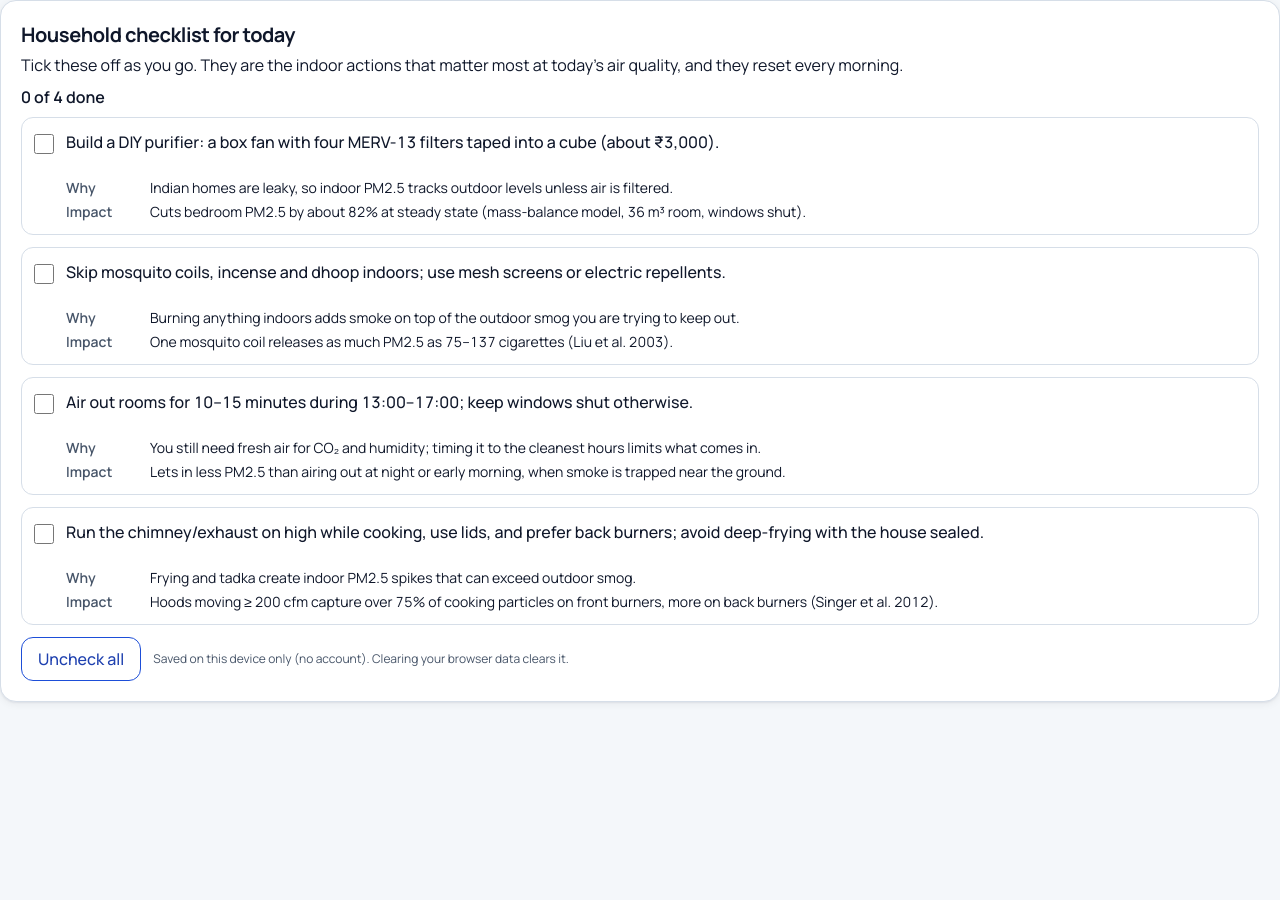
Scenario: Checklist › unchecks all
Click the 1st checkbox at (44, 144), box [34,134,54,154]
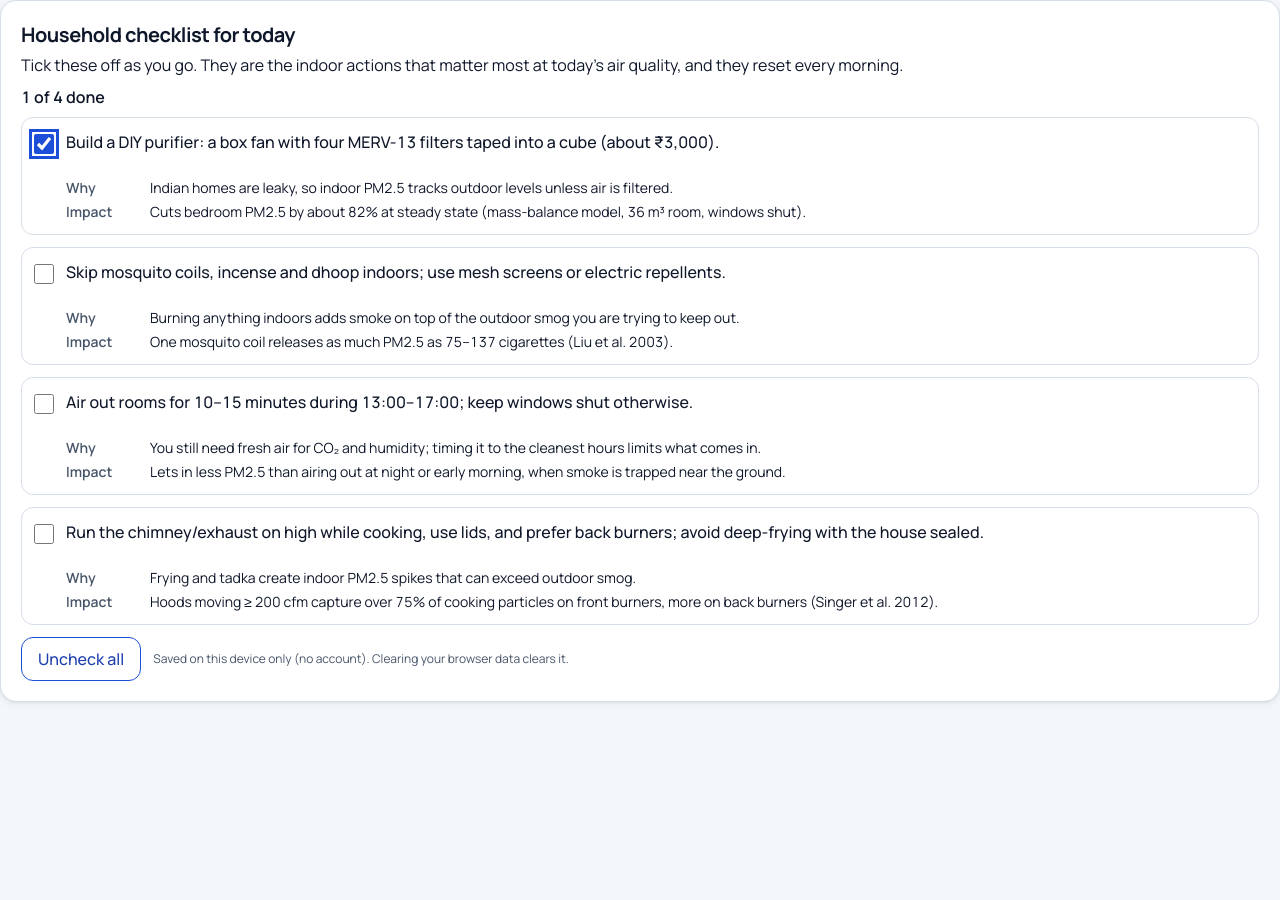
Click the 2nd checkbox at (44, 274), box [34,264,54,284]
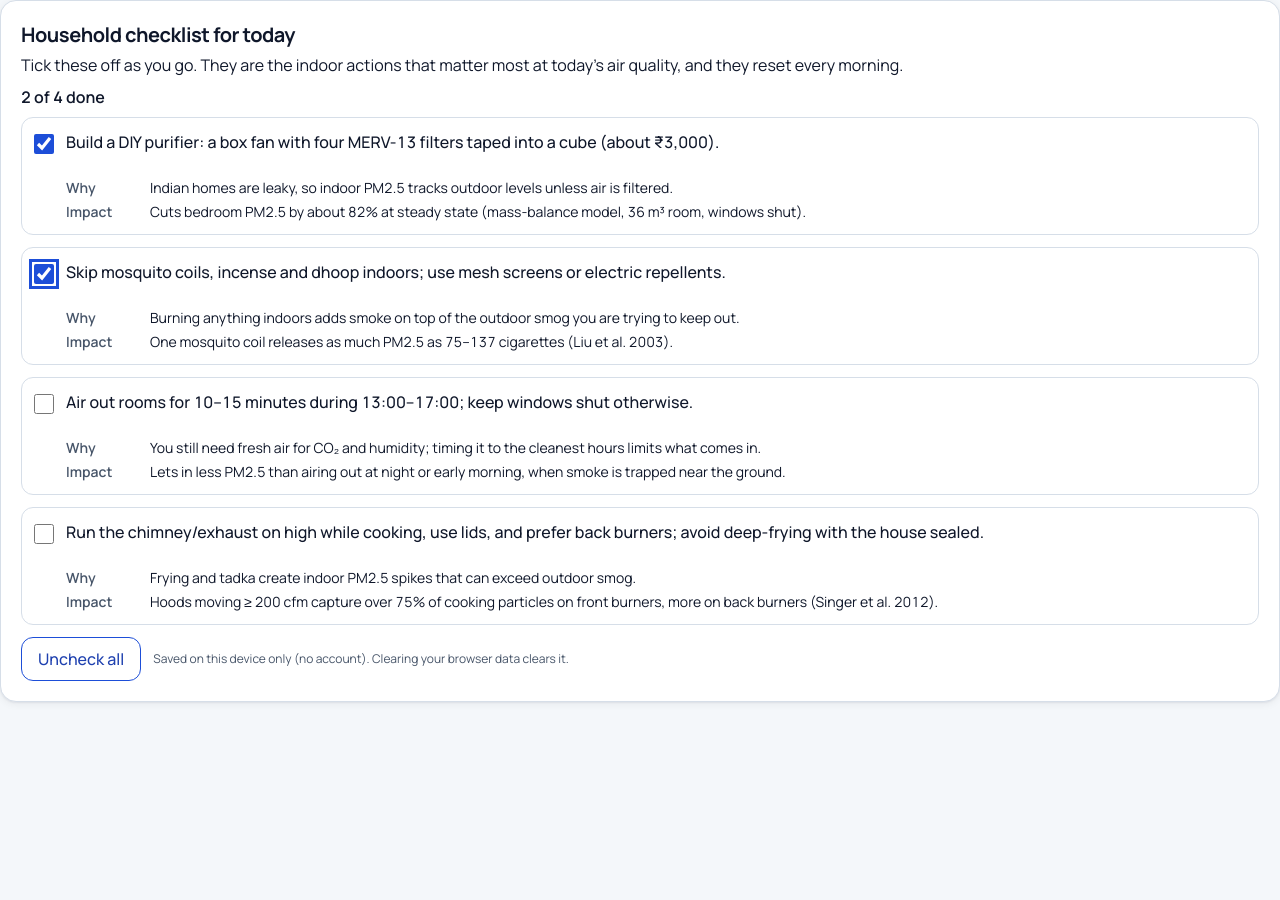
Expected: the text "2 of 4 done" is shown, [21,86,105,108]
Click the button "Uncheck all" at (81, 659), box [21,637,141,681]
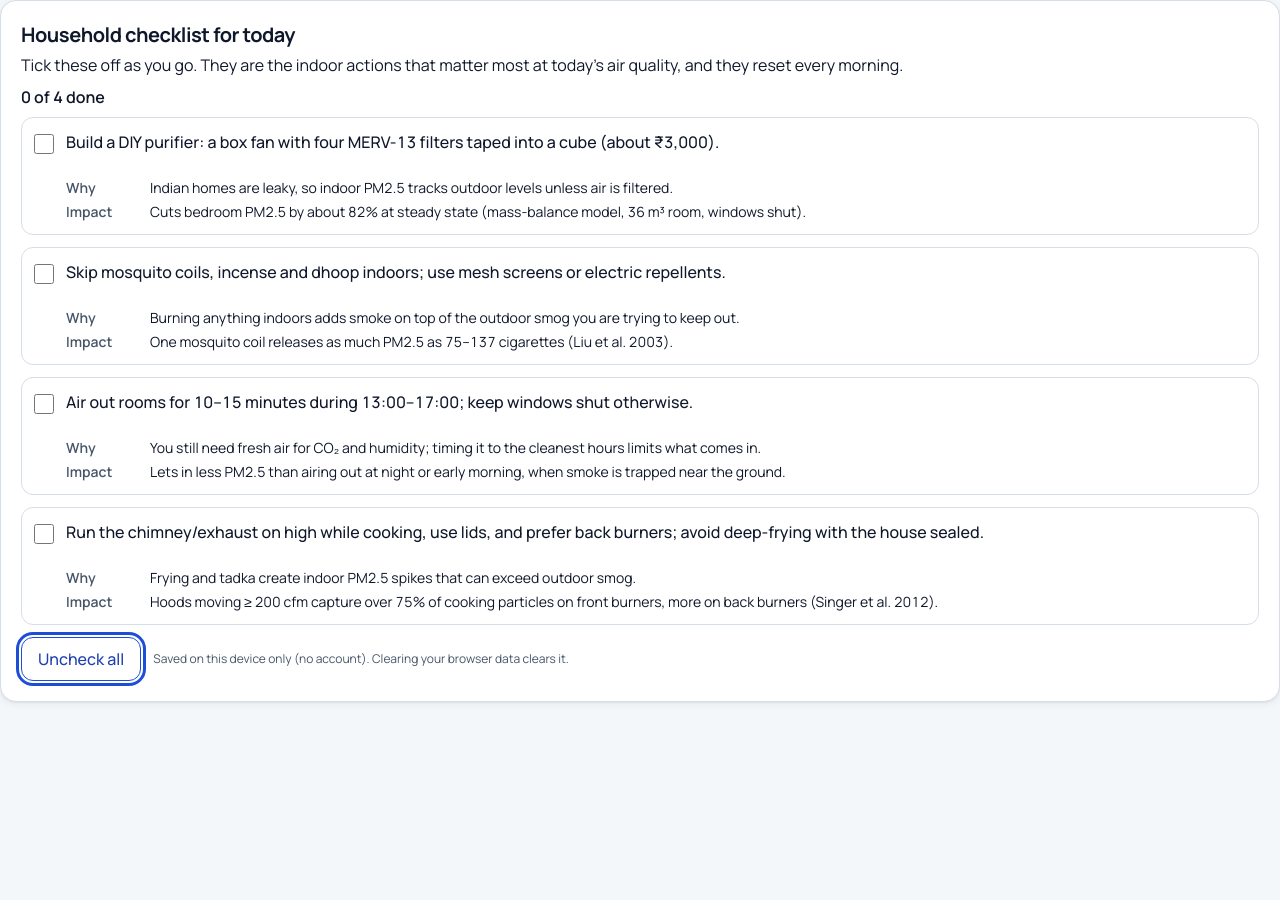
Expected: the text "0 of 4 done" is shown, [21,86,105,108]
